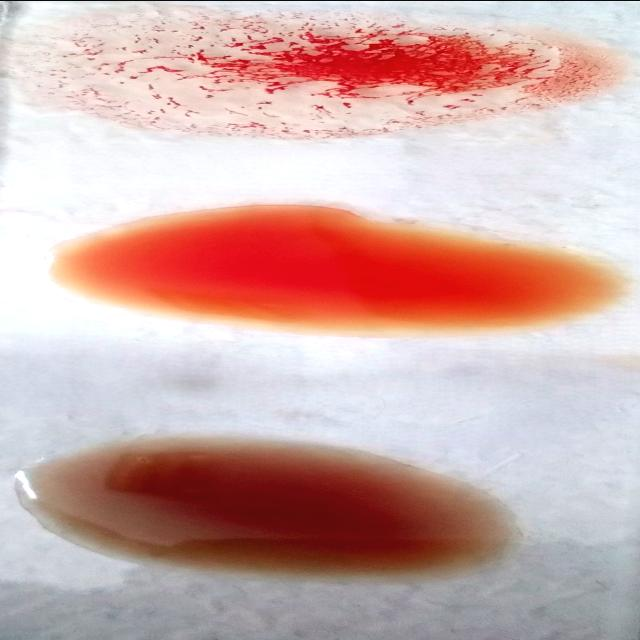D: (37, 12, 620, 134)
